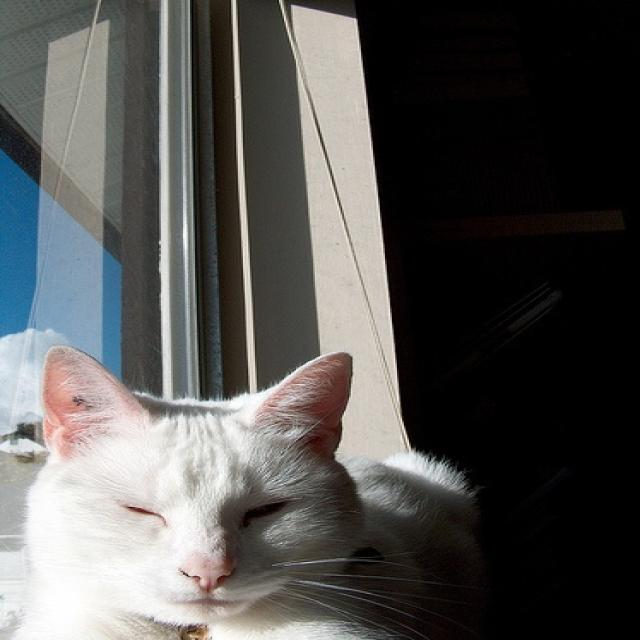cat: (10, 344, 481, 639)
